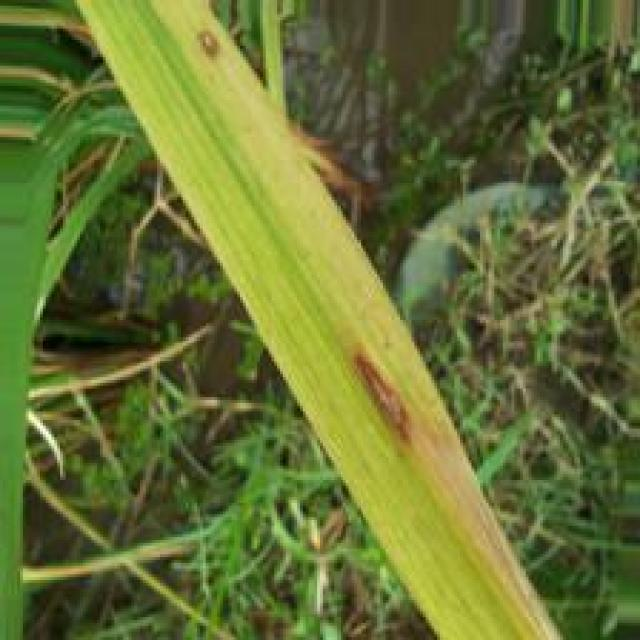Brown_Spot: (343, 350, 417, 452), (190, 20, 227, 68)
